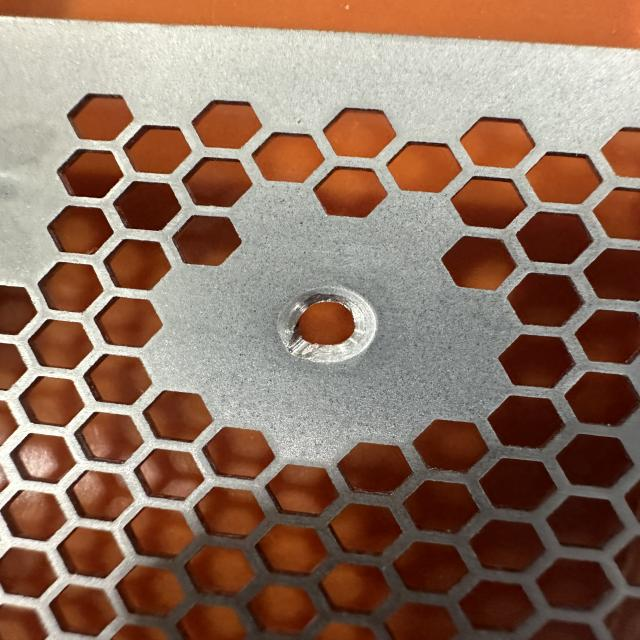Missing screw: (270, 279, 386, 371)
